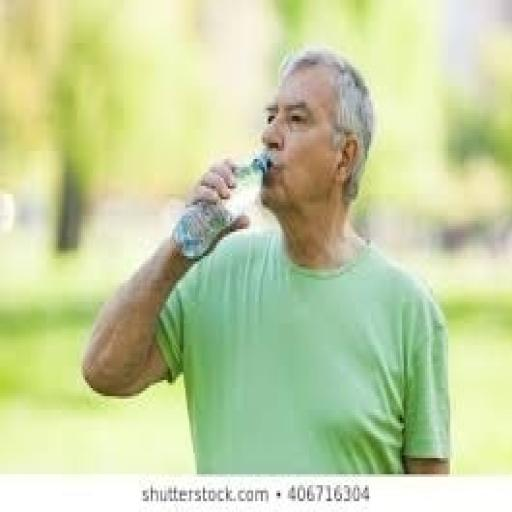drinking: (170, 146, 272, 262)
